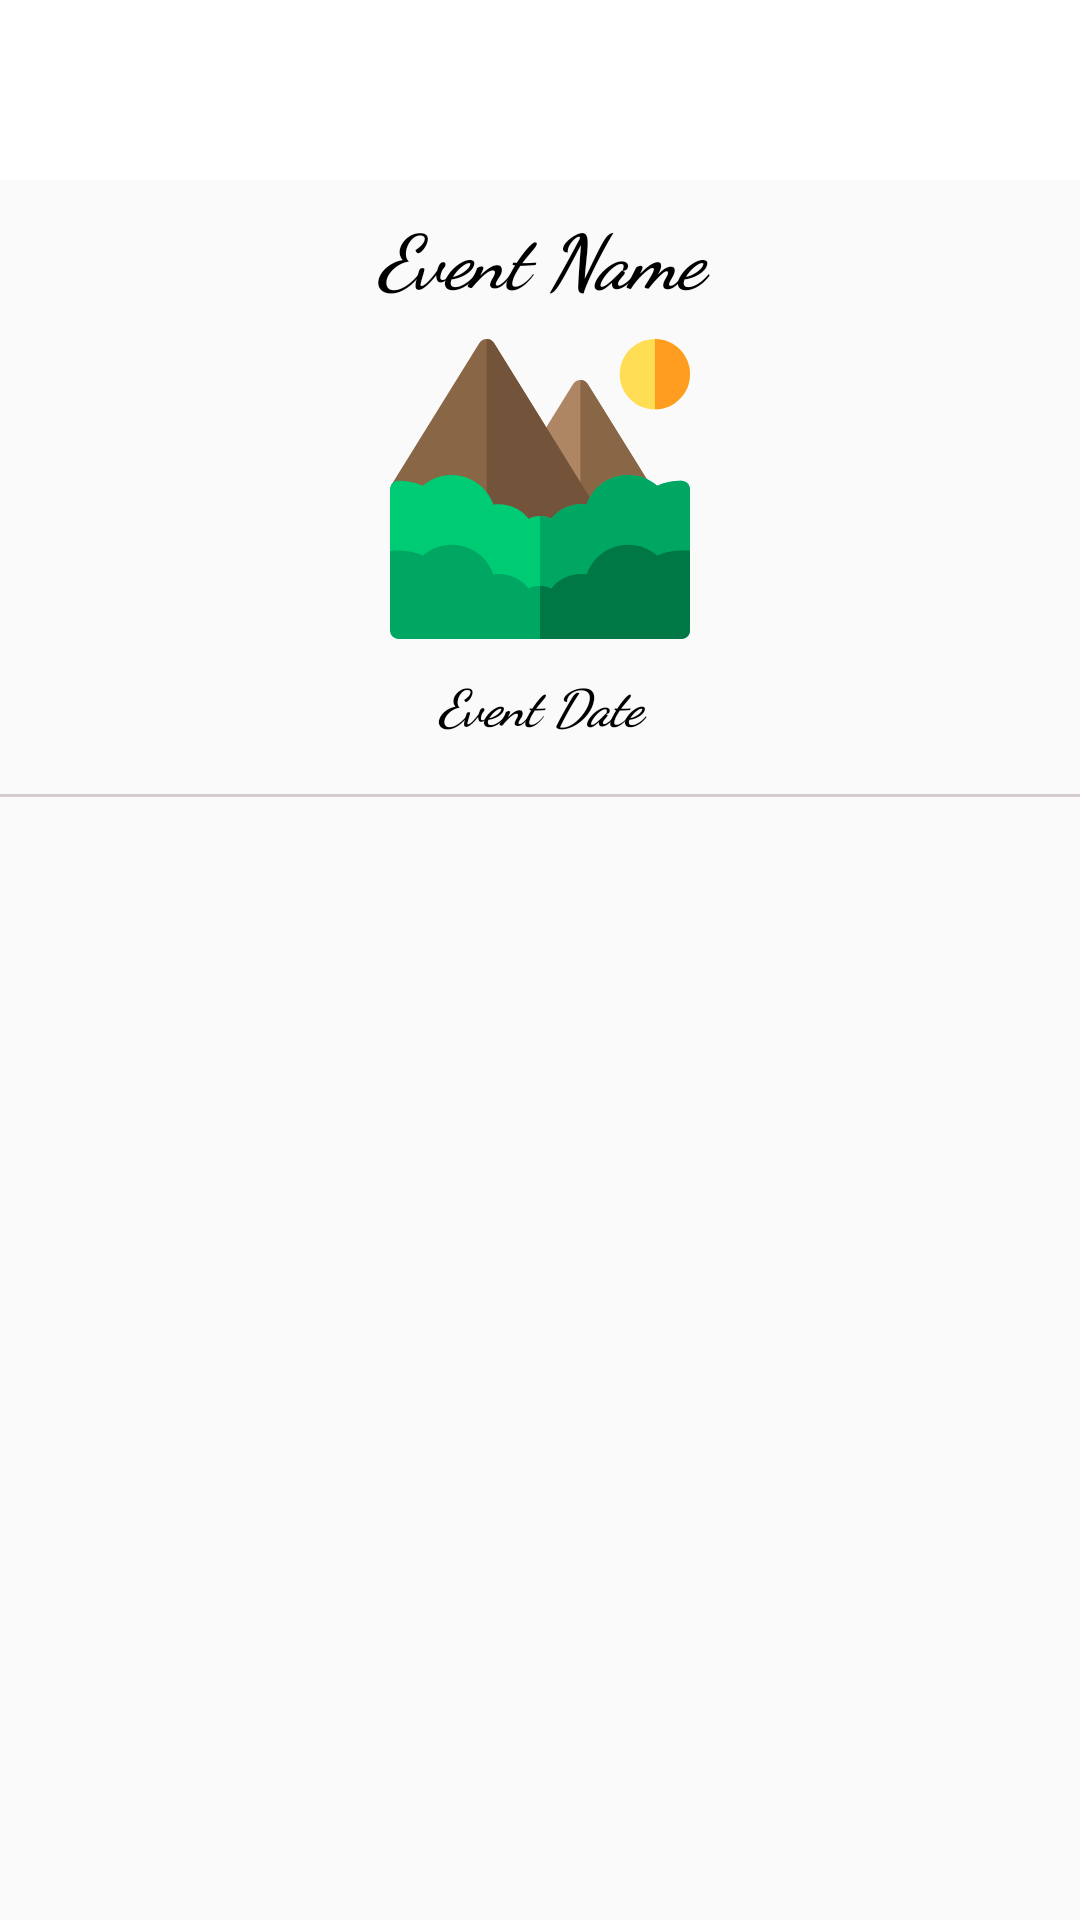

Named icons in this screenshot (1080 × 1920) and their bounding boxes, (x1, y1, x2, y2):
nature: (390, 339, 690, 639)
